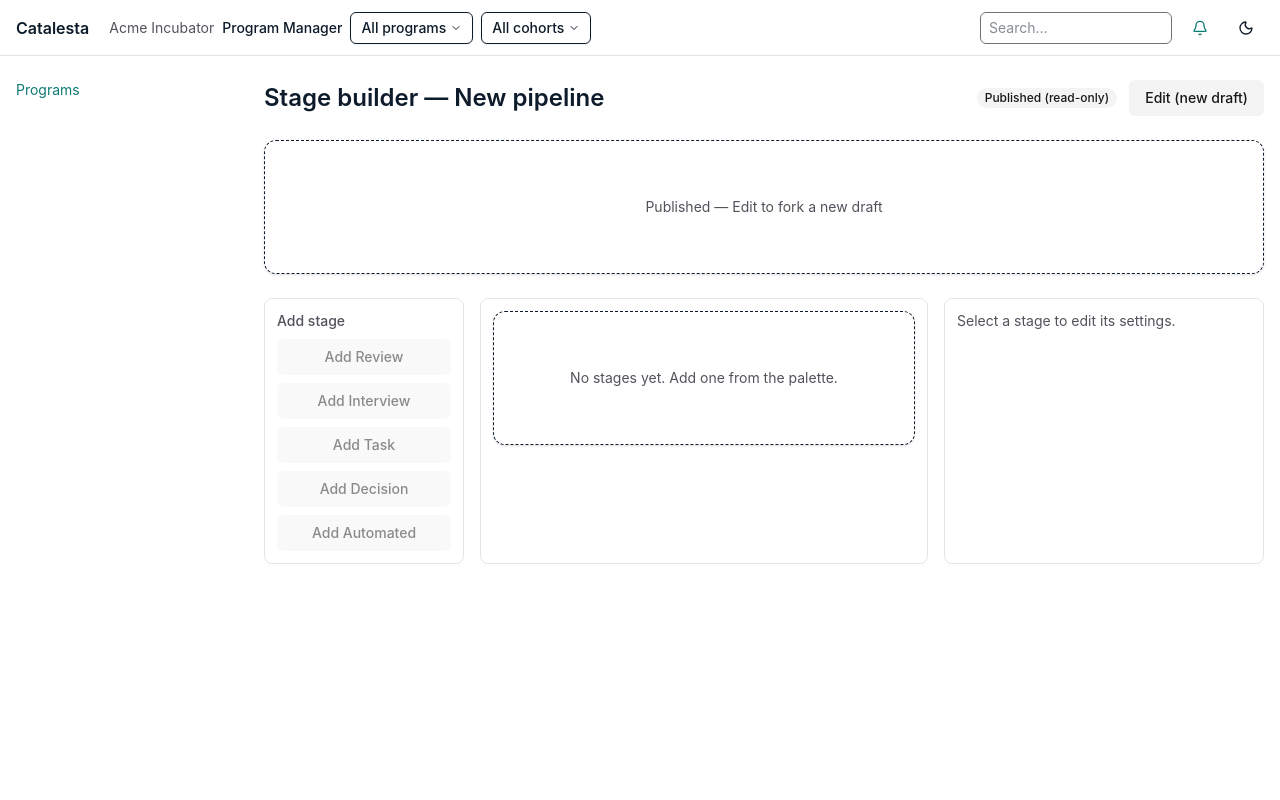
Scenario: published version is read-only and Edit forks a new editable draft
Expected: the heading "Stage builder — New pipeline" is shown, [264,82,604,114]
Expected: the button "Add Review" is disabled, [277,339,451,375]
Step 1. Click the button "Edit (new draft)" → (1197, 98), box [1129,80,1264,116]
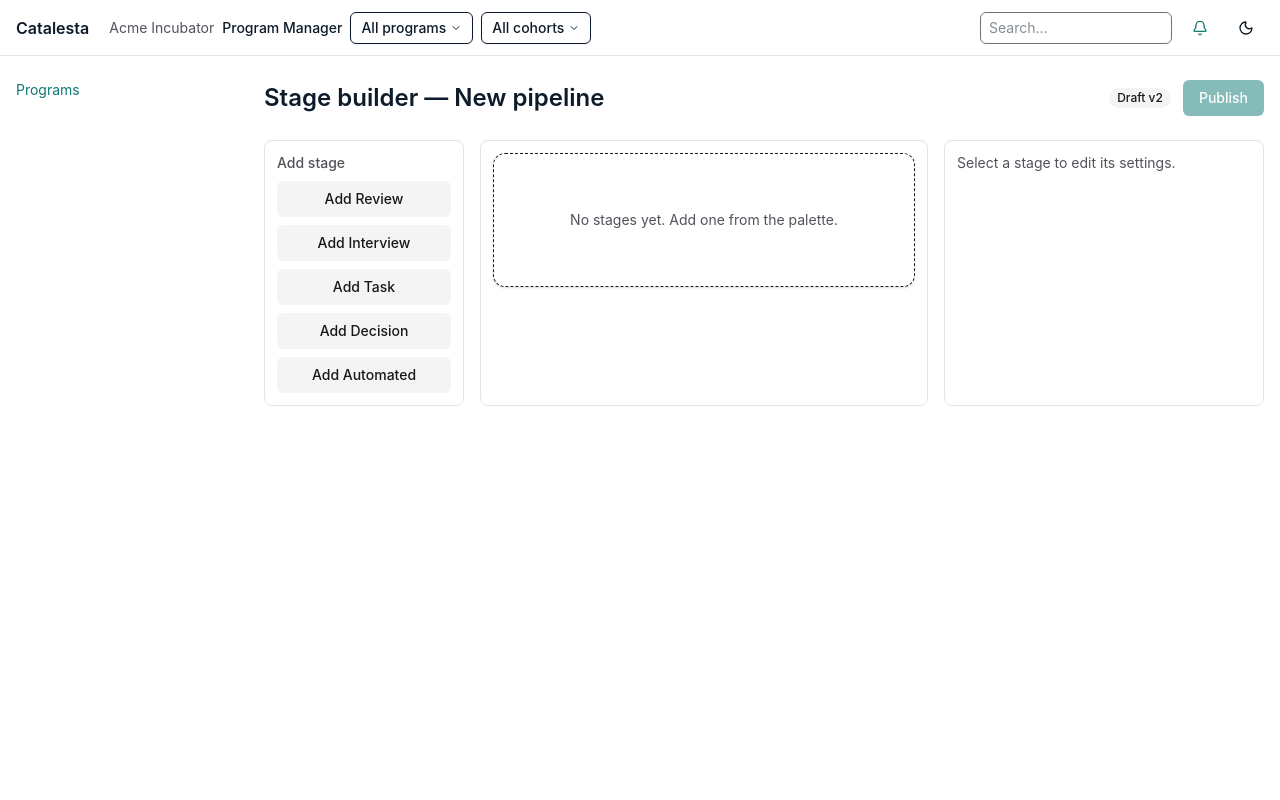
Expected: the button "Add Review" is enabled, [277,181,451,217]
